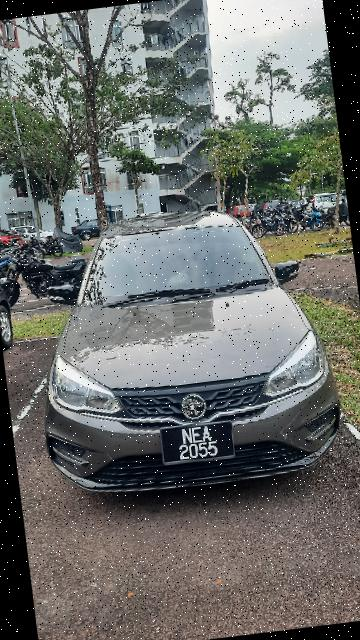License_Plate: (162, 419, 237, 464)
car: (14, 190, 352, 510)
